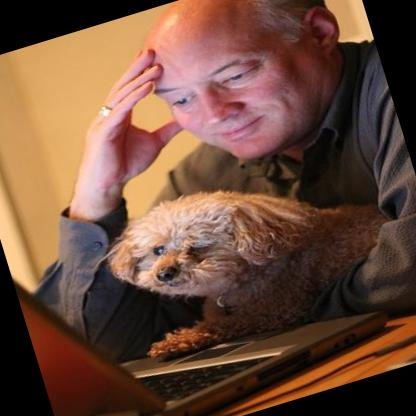toy_poodle: (88, 134, 414, 370)
